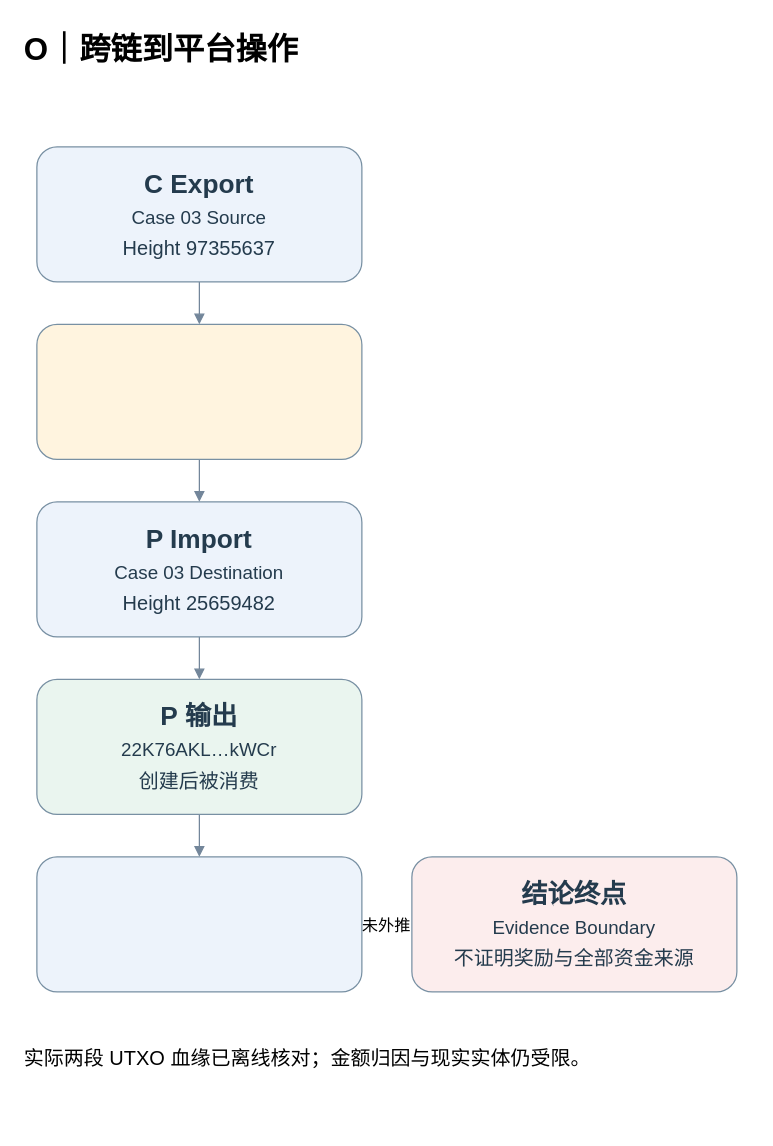
Image size: 773x1146. Some labels were removed from this diagram. The shapes that lost their labels are listed below. From the top down, each one's centre as x and y in pixels, then its label:
At (x=199, y=391): "共同 Atomic UTXO T2mukyoW…KhcnNc Asset 与数量一致".
At (x=199, y=924): "Primary 委托 Case 04 Operation EDAKbagt…Ptnpi".
